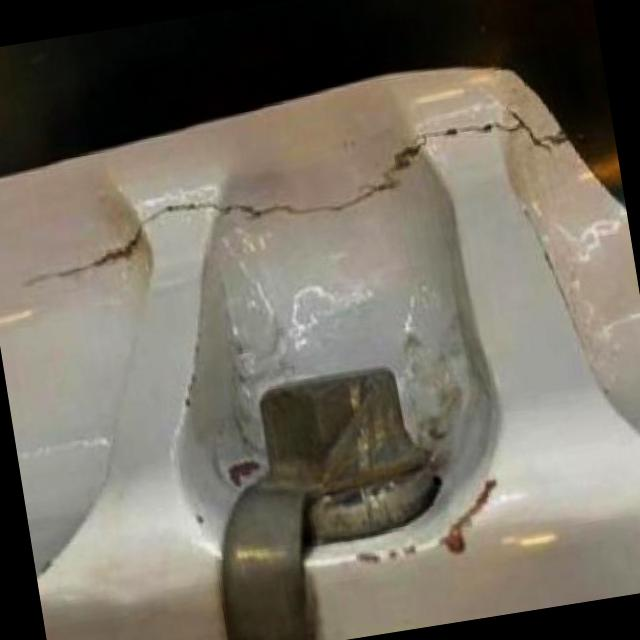crack: (19, 100, 571, 295)
